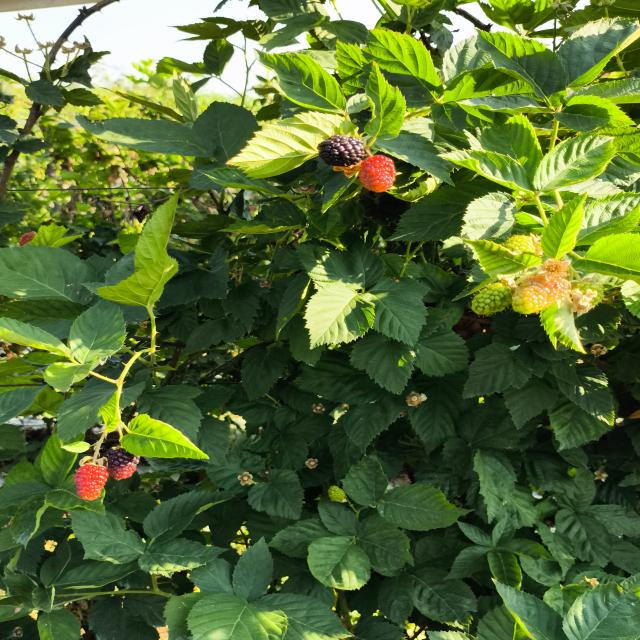maduro: (318, 134, 366, 167)
marron: (107, 448, 139, 480)
naranja: (359, 155, 396, 192), (73, 463, 108, 500)
verde: (511, 273, 569, 314), (471, 282, 513, 315), (504, 234, 543, 256), (328, 486, 345, 502)
